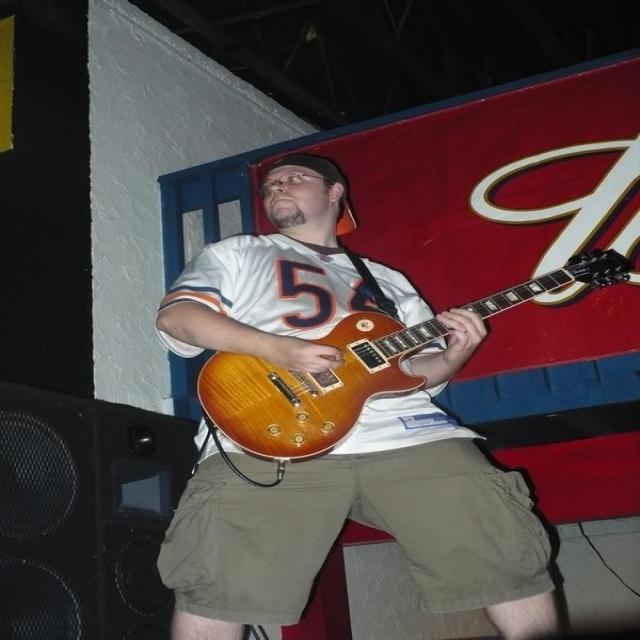guitar: (195, 248, 632, 462)
